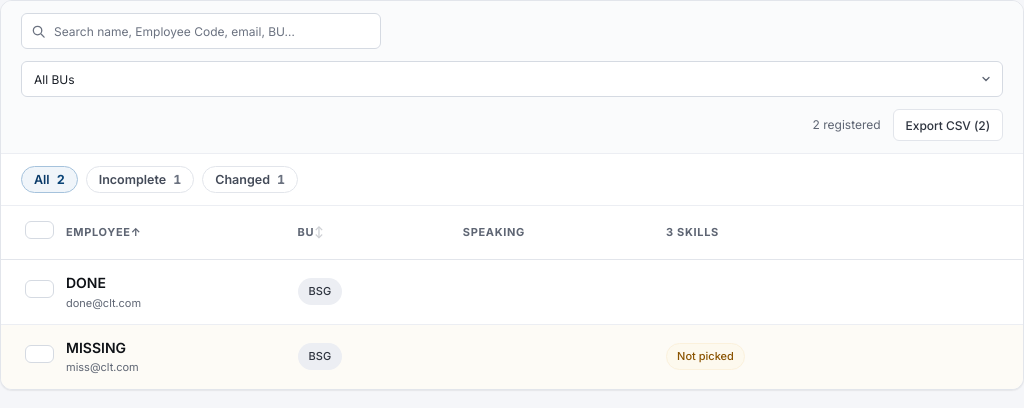
Registrations quick filters (slotted) › "Changed" chip filters to rows with changes
Check: the text "DONE" is shown, box [66,274,106,291]
Click the button "Changed 1": (250, 180) [202,166,298,193]
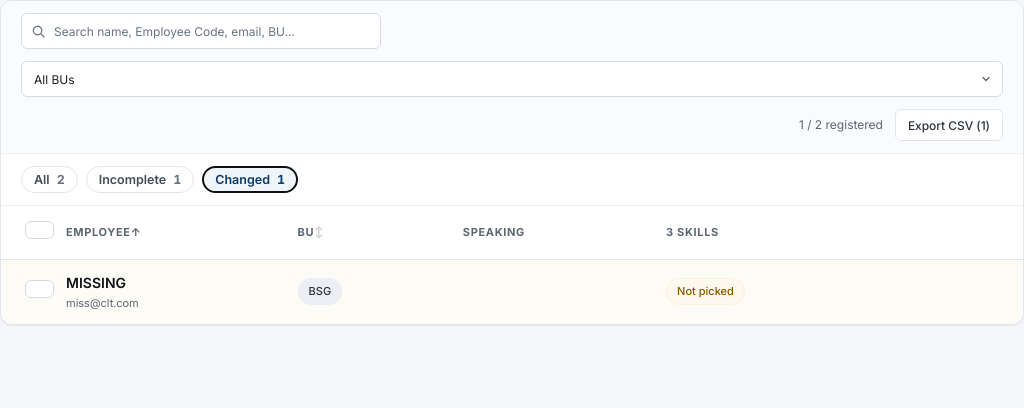
Check: the text "MISSING" is shown, box [66,274,126,291]
Check: the text "DONE" is gone
